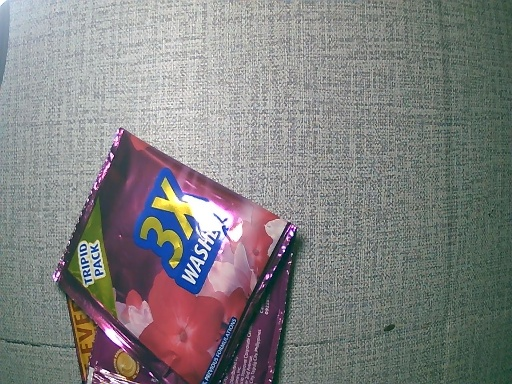plastic: (52, 128, 307, 384)
